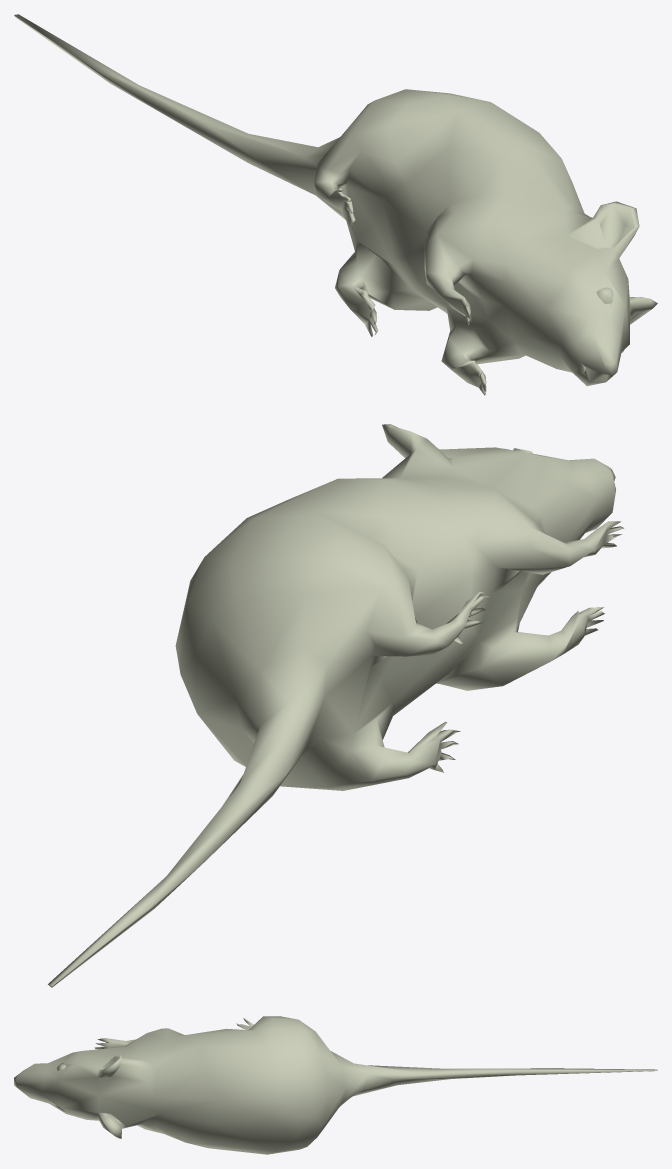
The model's file is DeadStreetRat.fbx.
3 renders of one model, top to bottom at view 1: azimuth 30°, elevation 25°; view 2: azimuth 150°, elevation 25°; view 3: azimuth 270°, elevation 25°, orthographic. The views are drawn at different scales.
Parts seen in each view (by area): view 1: street_rat; view 2: street_rat; view 3: street_rat.
Part boxes in pixels (x1,y1,x2,y2): street_rat: [14, 14, 657, 395]; street_rat: [48, 424, 623, 987]; street_rat: [14, 1016, 657, 1154].
Size of the model in its own units: 3.6 by 3.23 by 14.82.
